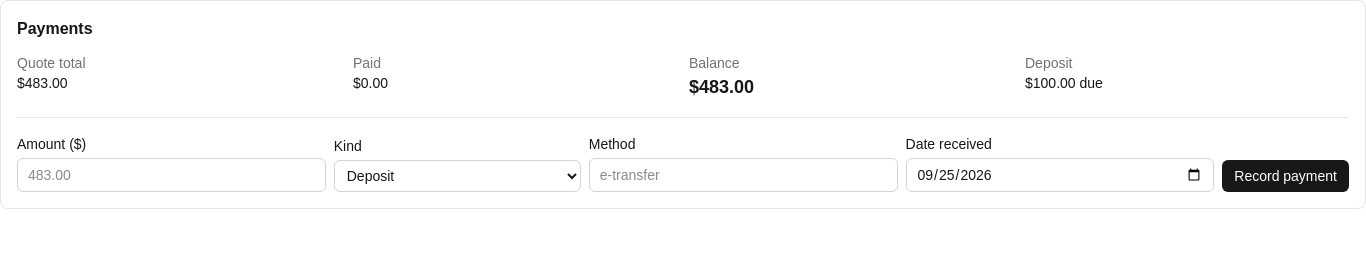
it: PaymentsPanel › shows the server's error, e.g. an overpayment
Type "9999" into the field labelled "Amount ($)" at [171, 175], box left=17, top=158, right=326, bottom=192
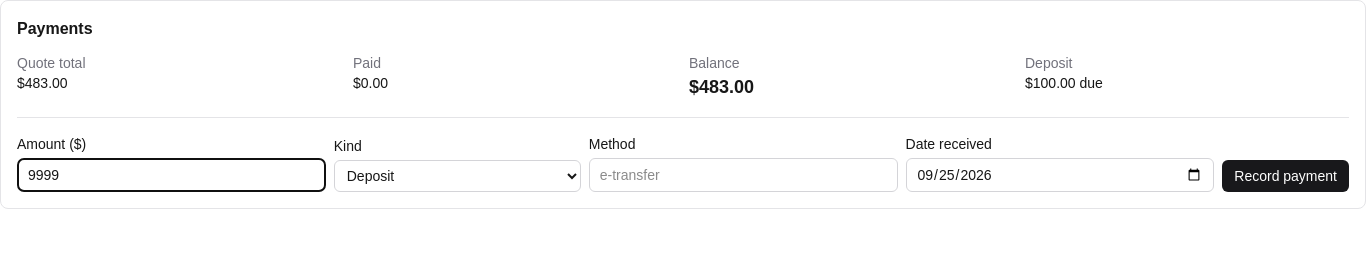
Click the button "Record payment" at [1286, 176], box left=1222, top=160, right=1349, bottom=192
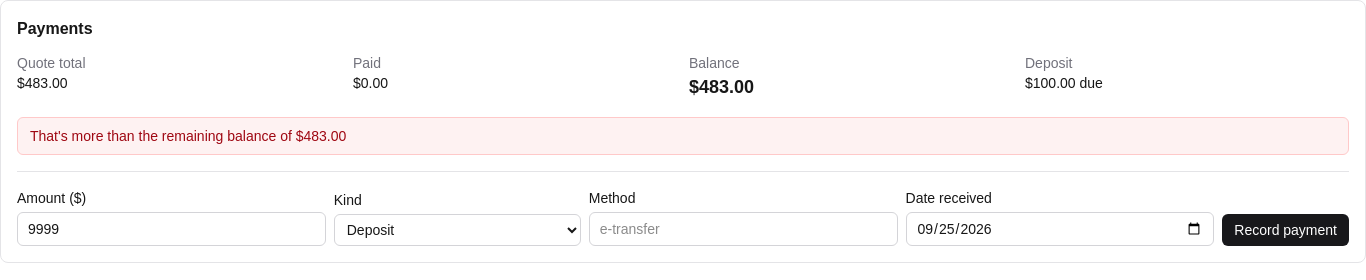
Expected: the message shows "more than the remaining balance", left=30, top=128, right=346, bottom=144
